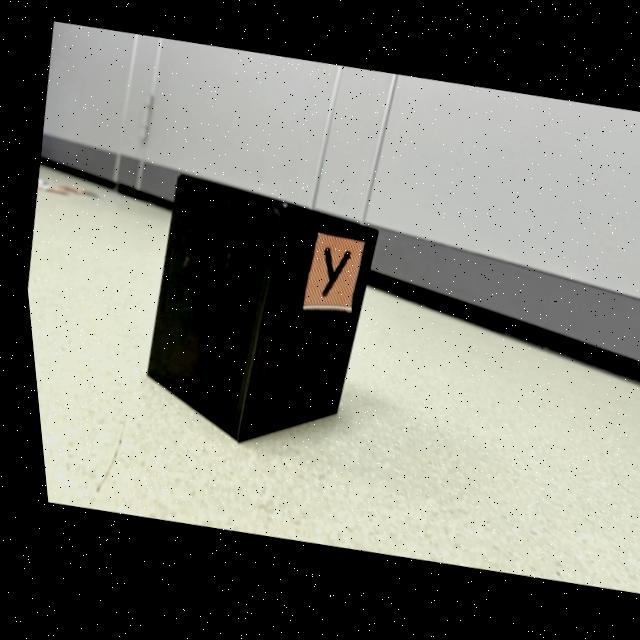Y: (316, 249, 345, 299)
